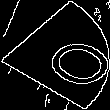O_NW: (8, 21, 102, 89)
